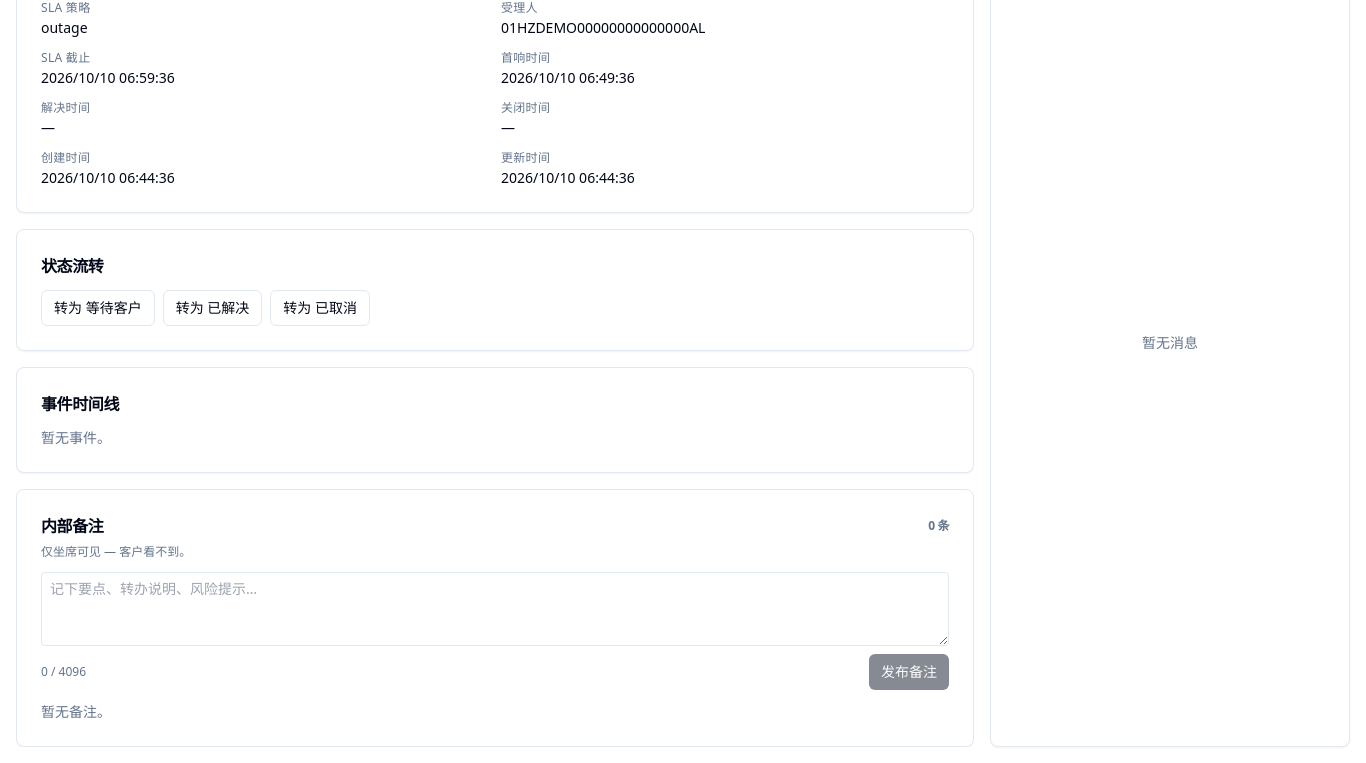
it: AdminTicketDetailPage notes panel (Tier 2 Task 2.6) › POSTs the note when the user submits the form
(page scrolled)
In the text box with test id "ticket-notes-input": (495, 609) top-left (41, 572), bottom-right (949, 646), type "remember to follow up tomorrow"
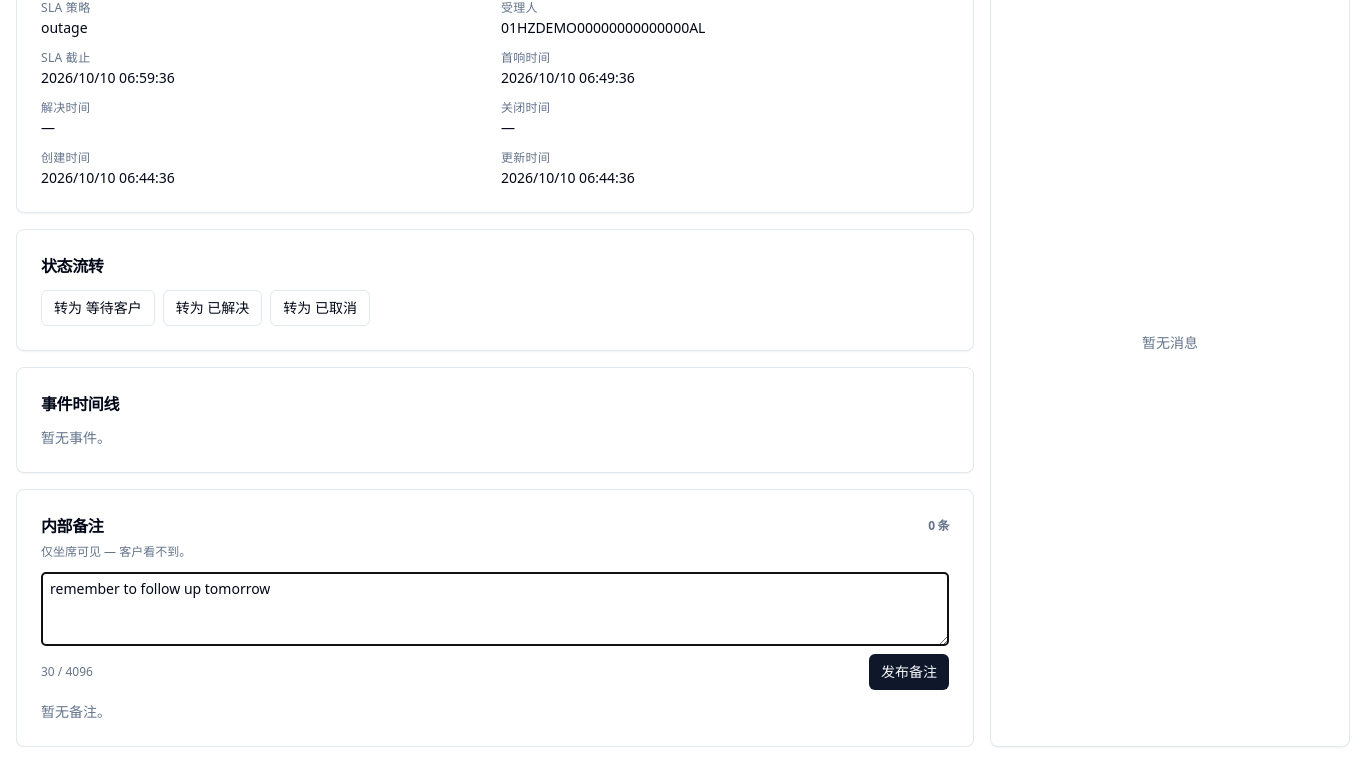
Now the button with test id "ticket-notes-submit" is enabled
Click the button with test id "ticket-notes-submit": (909, 672) top-left (869, 654), bottom-right (949, 690)
(page scrolled)
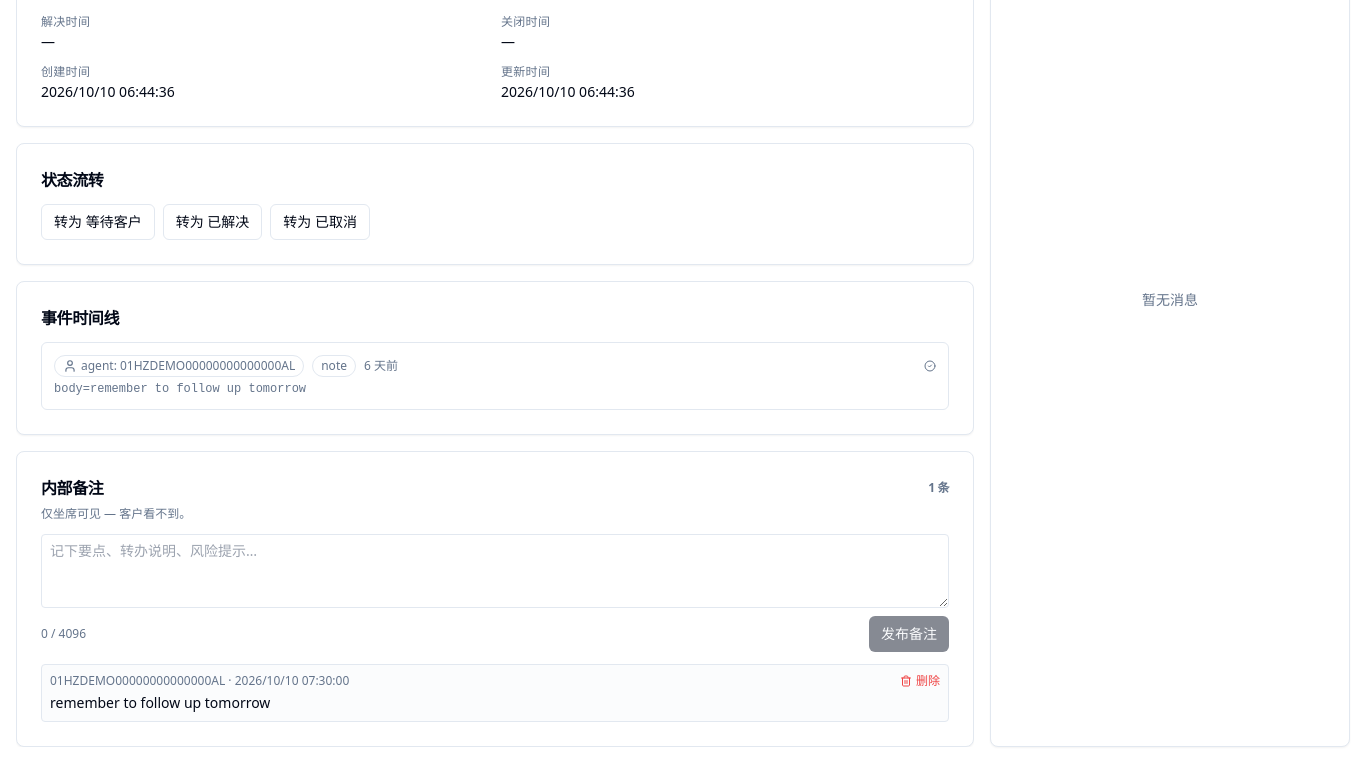
Now the text box with test id "ticket-notes-input" is empty, box top-left (41, 534), bottom-right (949, 608)
Now the list item with test id "ticket-note-row-note-new-1" is shown, box top-left (41, 664), bottom-right (949, 722)
